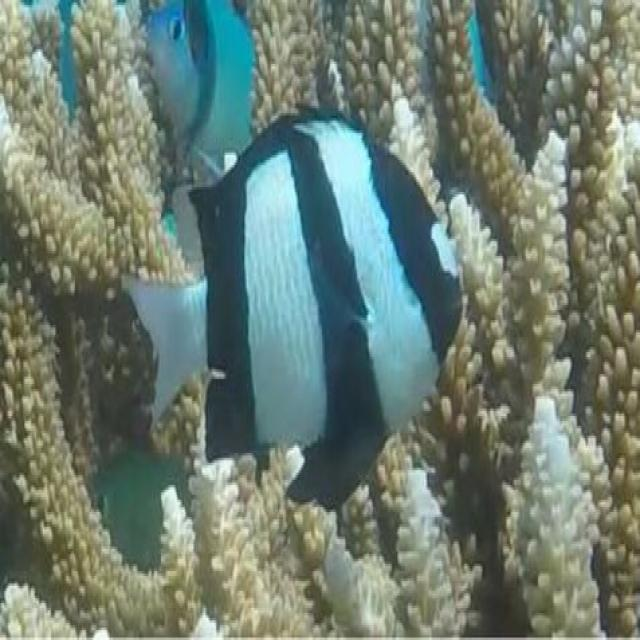Three_striped DasmselFish: (120, 106, 454, 507)
